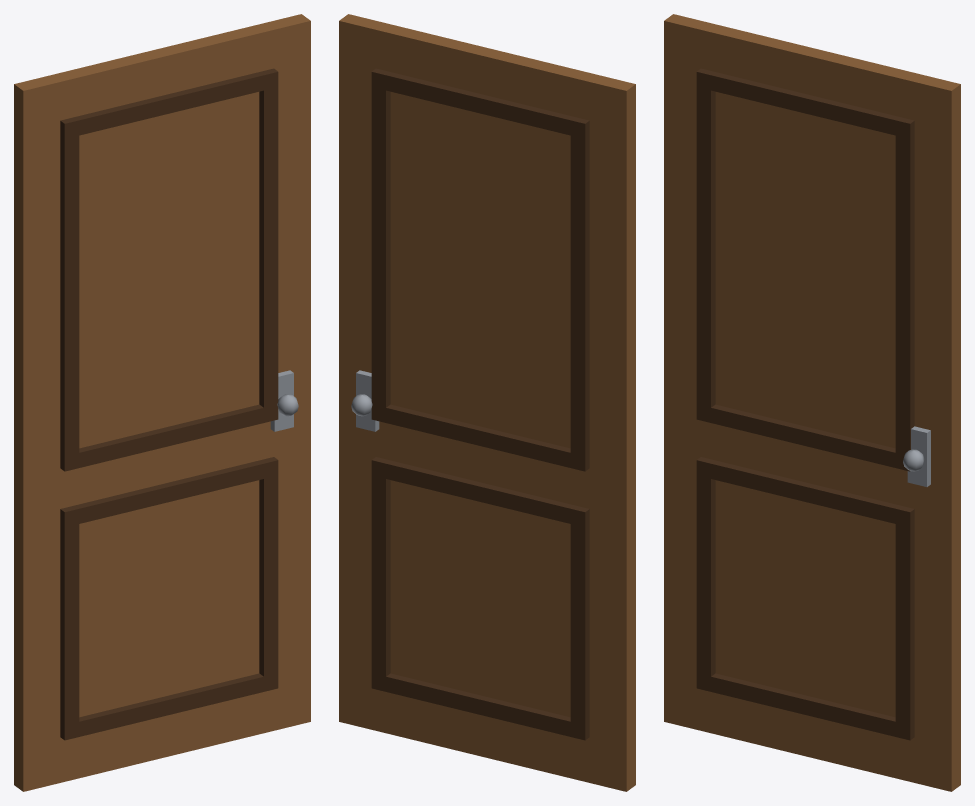
File: SM_Door_slifer_inner_90x208.fbx
3 views of the same model, side by side, from view 1: azimuth 30°, elevation 25°; view 2: azimuth 150°, elevation 25°; view 3: azimuth 330°, elevation 25° (orthographic).
Parts seen in each view (by area): view 1: SM_Door_slifer_inner_90x208; view 2: SM_Door_slifer_inner_90x208; view 3: SM_Door_slifer_inner_90x208.
Part boxes in pixels (x1,y1,x2,y2): SM_Door_slifer_inner_90x208: (14, 14, 310, 791); SM_Door_slifer_inner_90x208: (339, 14, 635, 791); SM_Door_slifer_inner_90x208: (664, 14, 960, 791).
Bounding box in the file's own units: 0.888 × 2.07 × 0.19.
